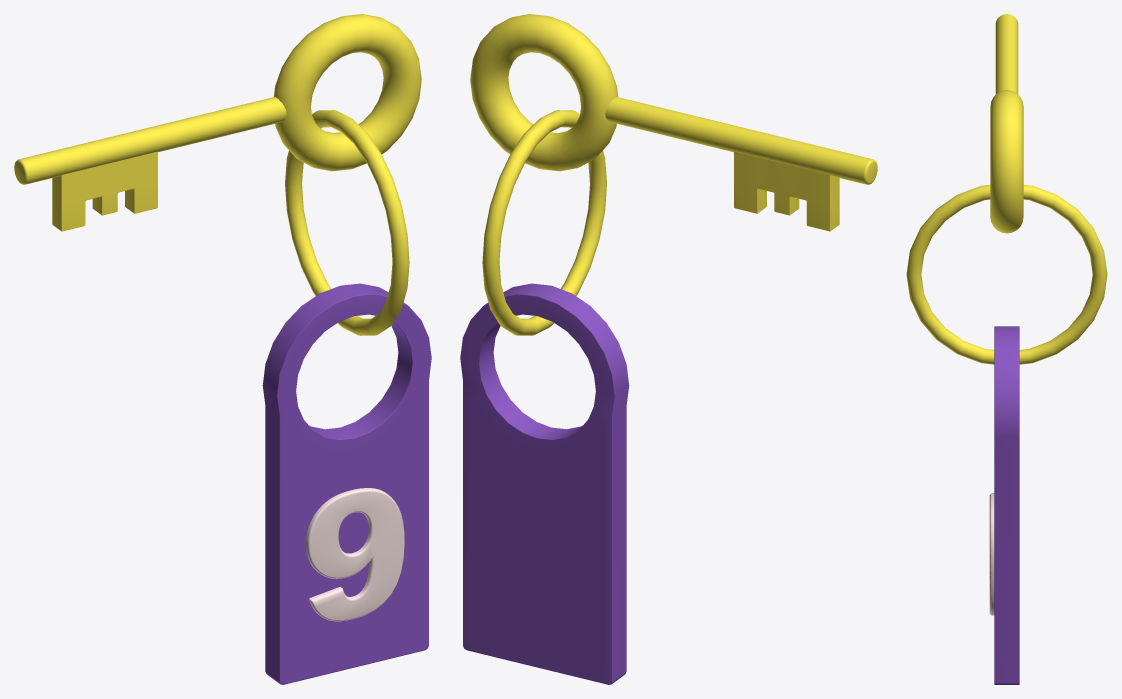
File: Public_7_Key_Number_9.glb
The picture shows the model from 3 angles, left to right: view 1: azimuth 30°, elevation 25°; view 2: azimuth 150°, elevation 25°; view 3: azimuth 270°, elevation 25°; orthographic projection. The views are drawn at different scales.
Visible parts, largest first — view 1: Public_7_Key_Number_9; view 2: Public_7_Key_Number_9; view 3: Public_7_Key_Number_9.
Part boxes in pixels (box(x1,y1,x2,y2)): Public_7_Key_Number_9: box(14, 14, 431, 684); Public_7_Key_Number_9: box(460, 14, 877, 684); Public_7_Key_Number_9: box(906, 14, 1107, 684).
Size of the model in its own units: 1.61 by 2.45 by 0.8011.
1 material, 1 textured.
